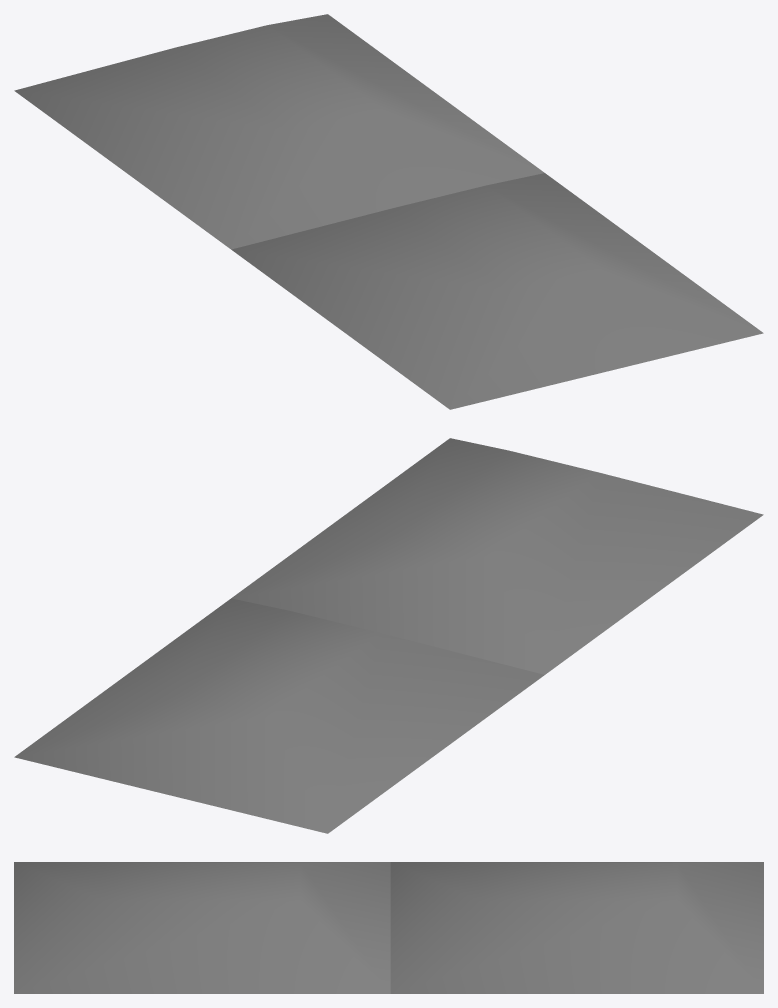
File: Load_cont_cast_Full.glb
3 views of the same model, one above another, from view 1: azimuth 30°, elevation 25°; view 2: azimuth 150°, elevation 25°; view 3: azimuth 270°, elevation 25° (orthographic). The views are drawn at different scales.
Parts seen in each view (by area): view 1: Load_cont_cast_Full; view 2: Load_cont_cast_Full; view 3: Load_cont_cast_Full.
Part boxes in pixels (left/top/right/bottom): Load_cont_cast_Full: left=14, top=14, right=763, bottom=409; Load_cont_cast_Full: left=14, top=438, right=763, bottom=833; Load_cont_cast_Full: left=14, top=862, right=763, bottom=993.
Size of the model in its own units: 2.24 by 0.3609 by 5.38.
1 material, 1 textured.
